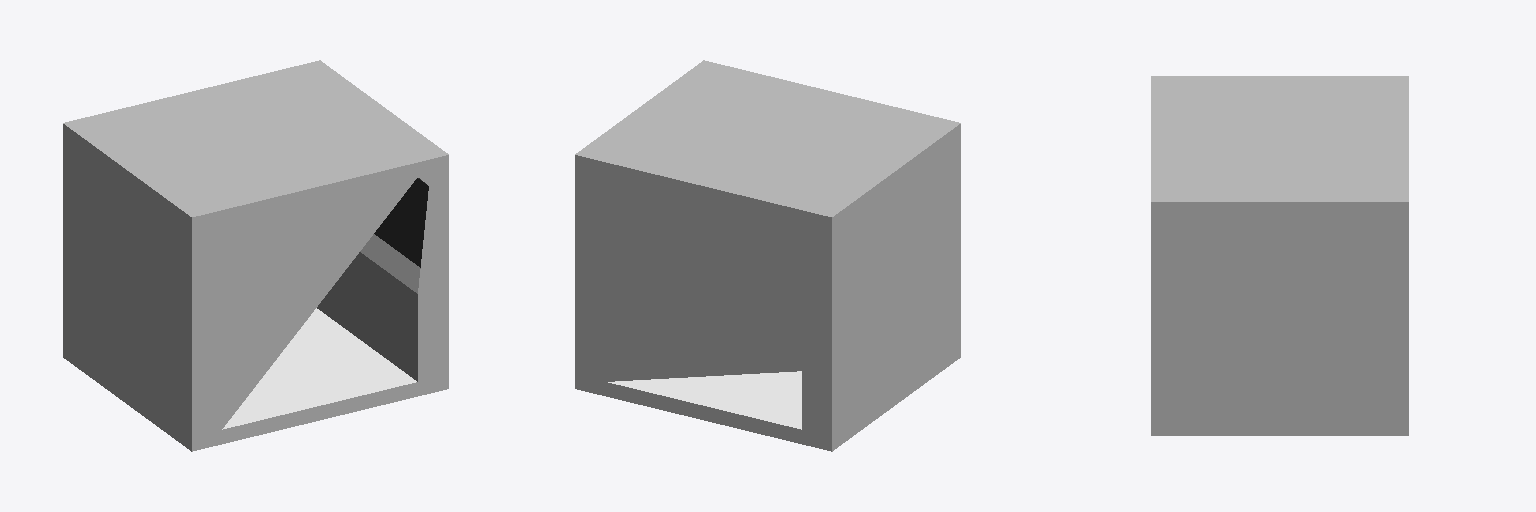
Rendered from straight.obj.
3 renders of one model, left to right at view 1: azimuth 30°, elevation 25°; view 2: azimuth 150°, elevation 25°; view 3: azimuth 270°, elevation 25°, orthographic.
Visible parts, largest first — view 1: Cube; view 2: Cube; view 3: Cube.
Boxes of the visible parts, x1=… form: Cube: x1=63, y1=60, x2=448, y2=451; Cube: x1=575, y1=60, x2=960, y2=451; Cube: x1=1151, y1=76, x2=1408, y2=435.
Bounding box in the file's own units: 3.45 × 3 × 3.